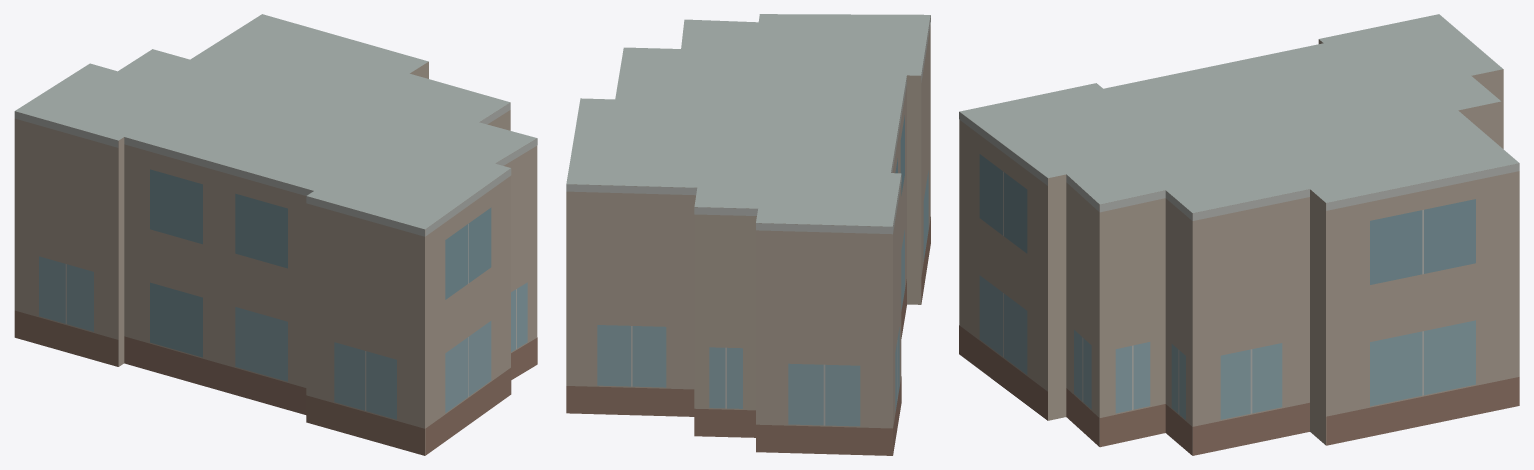
The model's file is survey-upis-32739957.glb.
3 renders of one model, left to right at view 1: azimuth 30°, elevation 25°; view 2: azimuth 150°, elevation 25°; view 3: azimuth 270°, elevation 25°, orthographic. The views are drawn at different scales.
Parts seen in each view (by area): view 1: survey-upis-32739957.tmp; view 2: survey-upis-32739957.tmp; view 3: survey-upis-32739957.tmp.
Part boxes in pixels (x1,y1,x2,y2): survey-upis-32739957.tmp: (14,14,537,455); survey-upis-32739957.tmp: (566,14,930,455); survey-upis-32739957.tmp: (959,14,1519,455).
Size of the model in its own units: 13.22 by 7.5 by 15.71.
